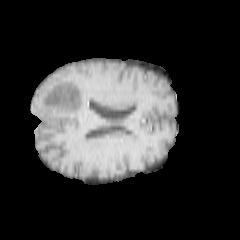glioma: (39, 81, 95, 112)
